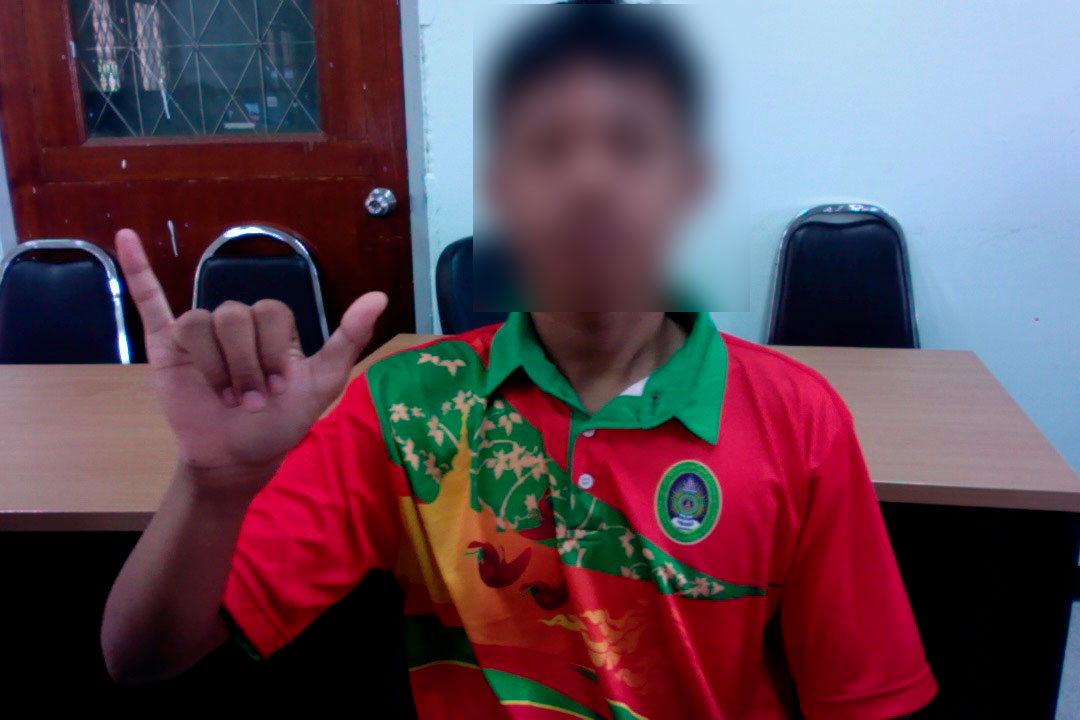yor: (108, 217, 399, 487)
